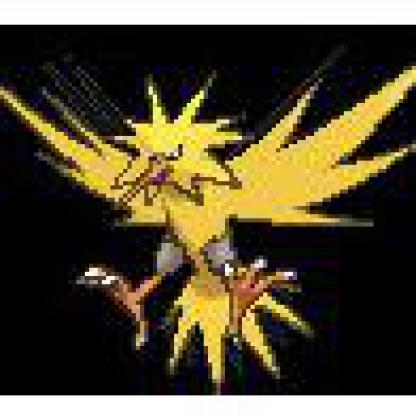Zapdos: (1, 1, 413, 413)
